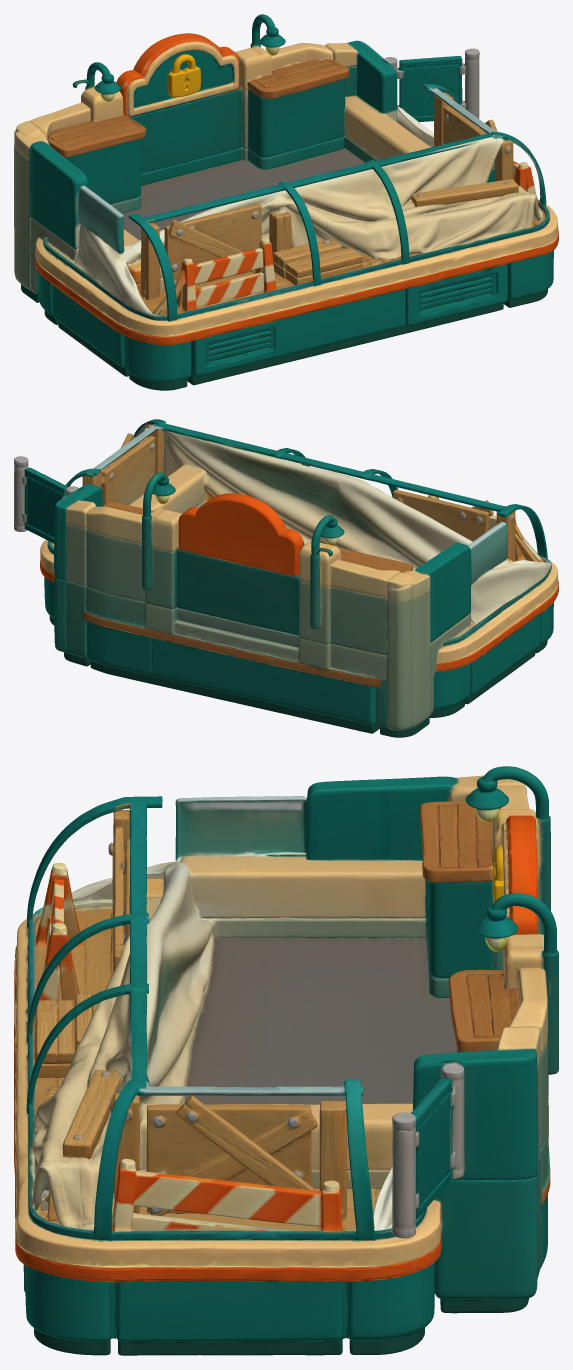
Rendered from CheeseryConstruction.glb.
3 views of the same model, one above another, from view 1: azimuth 30°, elevation 25°; view 2: azimuth 150°, elevation 25°; view 3: azimuth 270°, elevation 25° (orthographic). The views are drawn at different scales.
Visible parts, largest first — view 1: tripo_node_d45235ee-27cf-49c2-95cb-986ac1805489; view 2: tripo_node_d45235ee-27cf-49c2-95cb-986ac1805489; view 3: tripo_node_d45235ee-27cf-49c2-95cb-986ac1805489.
Part boxes in pixels (<box>): tripo_node_d45235ee-27cf-49c2-95cb-986ac1805489: <box>14,14,558,390</box>; tripo_node_d45235ee-27cf-49c2-95cb-986ac1805489: <box>14,419,558,737</box>; tripo_node_d45235ee-27cf-49c2-95cb-986ac1805489: <box>14,766,558,1355</box>.
Size of the model in its own units: 0.9802 by 0.4326 by 0.6218.
Materials: 1 (1 with a texture image).
